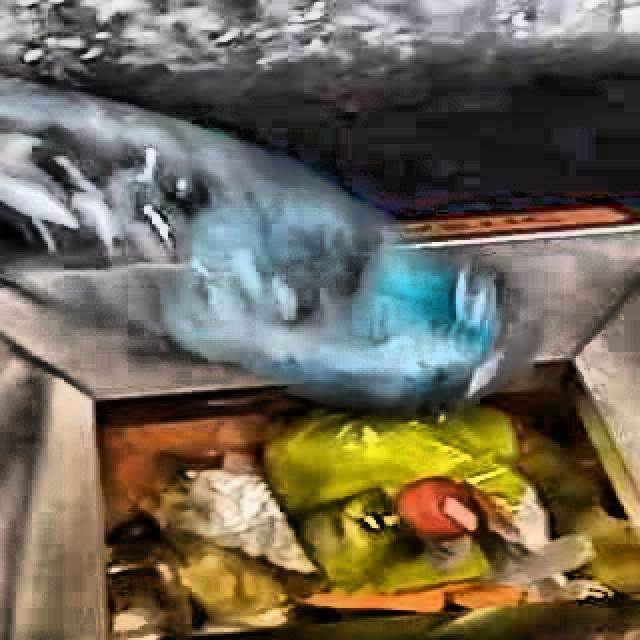plastic: (0, 80, 499, 411)
